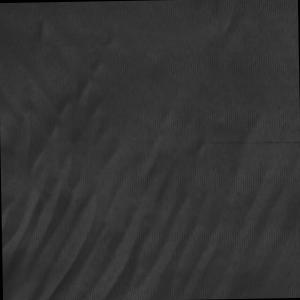Wrinkle: (1, 58, 300, 300)
